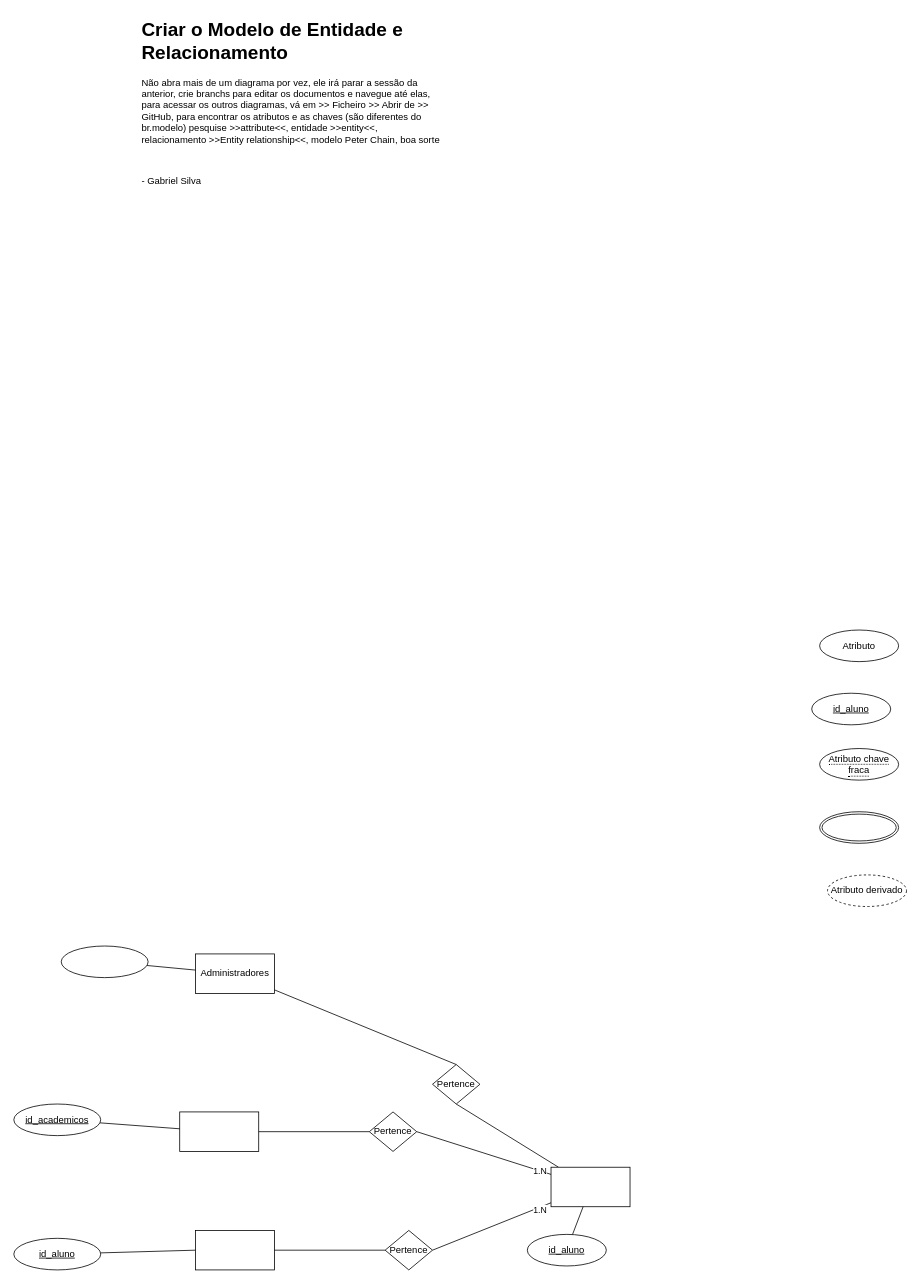
Image size: 920x1284. Some labels were removed from this diagram. The centre of each missing label's shape, as x and y in pixels:
Academicos: the point at 219,1131
Aluno: the point at 235,1250
Atributo multivalorado: the point at 859,827
id_administradores: the point at 104,961
Usuario: the point at 590,1186
